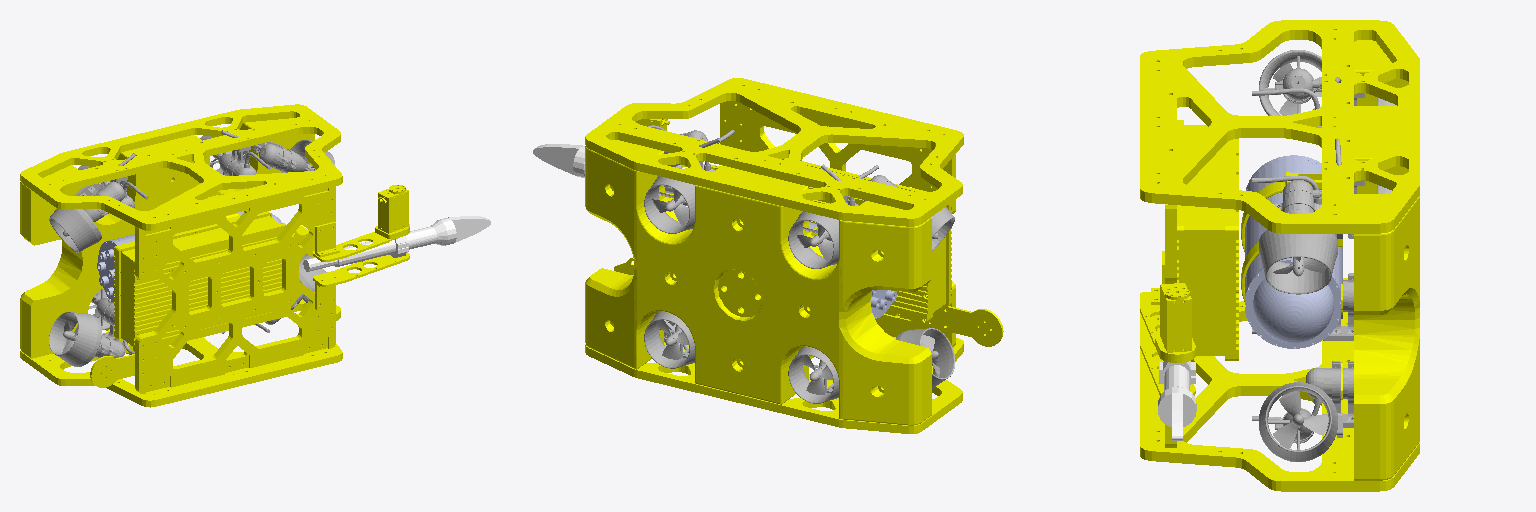
The robot description file, URDF, robot "underwater_robot":
<?xml version="1.0" encoding="utf-8"?>
<!-- This URDF was automatically created by SolidWorks to URDF Exporter! Originally created by Stephen Brawner (brawner@gmail.com) 
     Commit Version: 1.6.0-4-g7f85cfe  Build Version: 1.6.7995.38578
     For more information, please see http://wiki.ros.org/sw_urdf_exporter -->
<robot
  name="underwater_robot">
  <link
    name="base_link">
    <inertial>
      <origin
        xyz="-0.00388812346992118 0.214797507718185 0.000476870940854357"
        rpy="0 0 0" />
      <mass
        value="21.9611699884002" />
      <inertia
        ixx="0.23895137440233"
        ixy="-6.02120687701648E-05"
        ixz="6.67278401351575E-08"
        iyy="0.743447355689122"
        iyz="1.63793544263822E-06"
        izz="0.621848783014161" />
    </inertial>
    <visual>
      <origin
        xyz="0 0 0"
        rpy="0 0 0" />
      <geometry>
        <mesh
          filename="package://underwater_robot/meshes/base_link.STL" />
      </geometry>
      <material
        name="">
        <color
          rgba="0.988235294117647 1 0 1" />
      </material>
    </visual>
    <collision>
      <origin
        xyz="0 0 0"
        rpy="0 0 0" />
      <geometry>
        <mesh
          filename="package://underwater_robot/meshes/base_link.STL" />
      </geometry>
    </collision>
  </link>
  <link
    name="Link1">
    <inertial>
      <origin
        xyz="-0.284442084254638 0.0315351600726216 0.110185193232208"
        rpy="0 0 0" />
      <mass
        value="26.1757475044251" />
      <inertia
        ixx="0.694456523856631"
        ixy="0.0239708286389597"
        ixz="-0.00454179397071017"
        iyy="1.11839552637036"
        iyz="0.00257399094431449"
        izz="1.14010350472946" />
    </inertial>
    <visual>
      <origin
        xyz="0 0 0"
        rpy="0 0 0" />
      <geometry>
        <mesh
          filename="package://underwater_robot/meshes/Link1.STL" />
      </geometry>
      <material
        name="">
        <color
          rgba="0.752941176470588 0.752941176470588 0.752941176470588 1" />
      </material>
    </visual>
    <collision>
      <origin
        xyz="0 0 0"
        rpy="0 0 0" />
      <geometry>
        <mesh
          filename="package://underwater_robot/meshes/Link1.STL" />
      </geometry>
    </collision>
  </link>
  <joint
    name="J1"
    type="continuous">
    <origin
      xyz="0.288260052347553 0.179999999999991 -0.10968904997502"
      rpy="0 0 0" />
    <parent
      link="base_link" />
    <child
      link="Link1" />
    <axis
      xyz="0.866025403784441 0 0.499999999999996" />
  </joint>
  <link
    name="Link2">
    <inertial>
      <origin
        xyz="-0.284442084254639 0.0315351600726221 -0.109192906717831"
        rpy="0 0 0" />
      <mass
        value="26.1757475044251" />
      <inertia
        ixx="0.694456523856631"
        ixy="0.0239708286389598"
        ixz="-0.00454179397071014"
        iyy="1.11839552637036"
        iyz="0.00257399094431438"
        izz="1.14010350472946" />
    </inertial>
    <visual>
      <origin
        xyz="0 0 0"
        rpy="0 0 0" />
      <geometry>
        <mesh
          filename="package://underwater_robot/meshes/Link2.STL" />
      </geometry>
      <material
        name="">
        <color
          rgba="0.752941176470588 0.752941176470588 0.752941176470588 1" />
      </material>
    </visual>
    <collision>
      <origin
        xyz="0 0 0"
        rpy="0 0 0" />
      <geometry>
        <mesh
          filename="package://underwater_robot/meshes/Link2.STL" />
      </geometry>
    </collision>
  </link>
  <joint
    name="J2"
    type="continuous">
    <origin
      xyz="0.288260052347554 0.17999999999999 0.10968904997502"
      rpy="0 0 0" />
    <parent
      link="base_link" />
    <child
      link="Link2" />
    <axis
      xyz="0.86602540378444 0 -0.499999999999998" />
  </joint>
  <link
    name="Link3">
    <inertial>
      <origin
        xyz="-0.13617431748477 -0.124056489896612 0.125496143257188"
        rpy="0 0 0" />
      <mass
        value="26.1757475044251" />
      <inertia
        ixx="0.694456523856631"
        ixy="0.0239708286389597"
        ixz="-0.00454179397071017"
        iyy="1.11839552637036"
        iyz="0.0025739909443145"
        izz="1.14010350472946" />
    </inertial>
    <visual>
      <origin
        xyz="0 0 0"
        rpy="0 0 0" />
      <geometry>
        <mesh
          filename="package://underwater_robot/meshes/Link3.STL" />
      </geometry>
      <material
        name="">
        <color
          rgba="0.752941176470588 0.752941176470588 0.752941176470588 1" />
      </material>
    </visual>
    <collision>
      <origin
        xyz="0 0 0"
        rpy="0 0 0" />
      <geometry>
        <mesh
          filename="package://underwater_robot/meshes/Link3.STL" />
      </geometry>
    </collision>
  </link>
  <joint
    name="J3"
    type="fixed">
    <origin
      xyz="0.139992285577685 0.335591649969225 -0.125"
      rpy="0 0 0" />
    <parent
      link="base_link" />
    <child
      link="Link3" />
    <axis
      xyz="0 0 0" />
  </joint>
  <link
    name="Link4">
    <inertial>
      <origin
        xyz="-0.13617431748477 -0.124056489896612 -0.124503856742812"
        rpy="0 0 0" />
      <mass
        value="26.1757475044251" />
      <inertia
        ixx="0.694456523856631"
        ixy="0.0239708286389597"
        ixz="-0.00454179397071016"
        iyy="1.11839552637036"
        iyz="0.00257399094431448"
        izz="1.14010350472946" />
    </inertial>
    <visual>
      <origin
        xyz="0 0 0"
        rpy="0 0 0" />
      <geometry>
        <mesh
          filename="package://underwater_robot/meshes/Link4.STL" />
      </geometry>
      <material
        name="">
        <color
          rgba="0.752941176470588 0.752941176470588 0.752941176470588 1" />
      </material>
    </visual>
    <collision>
      <origin
        xyz="0 0 0"
        rpy="0 0 0" />
      <geometry>
        <mesh
          filename="package://underwater_robot/meshes/Link4.STL" />
      </geometry>
    </collision>
  </link>
  <joint
    name="J4"
    type="fixed">
    <origin
      xyz="0.139992285577685 0.335591649969225 0.125"
      rpy="0 0 0" />
    <parent
      link="base_link" />
    <child
      link="Link4" />
    <axis
      xyz="0 0 0" />
  </joint>
  <link
    name="Link5">
    <inertial>
      <origin
        xyz="0.143825682515232 -0.124056489896607 0.125496143257189"
        rpy="0 0 0" />
      <mass
        value="26.1757475044251" />
      <inertia
        ixx="0.694456523856631"
        ixy="0.0239708286389596"
        ixz="-0.00454179397071016"
        iyy="1.11839552637036"
        iyz="0.00257399094431449"
        izz="1.14010350472946" />
    </inertial>
    <visual>
      <origin
        xyz="0 0 0"
        rpy="0 0 0" />
      <geometry>
        <mesh
          filename="package://underwater_robot/meshes/Link5.STL" />
      </geometry>
      <material
        name="">
        <color
          rgba="0.752941176470588 0.752941176470588 0.752941176470588 1" />
      </material>
    </visual>
    <collision>
      <origin
        xyz="0 0 0"
        rpy="0 0 0" />
      <geometry>
        <mesh
          filename="package://underwater_robot/meshes/Link5.STL" />
      </geometry>
    </collision>
  </link>
  <joint
    name="J5"
    type="continuous">
    <origin
      xyz="-0.140007714422317 0.335591649969219 -0.125"
      rpy="0 0 0" />
    <parent
      link="base_link" />
    <child
      link="Link5" />
    <axis
      xyz="0 1 0" />
  </joint>
  <link
    name="Link6">
    <inertial>
      <origin
        xyz="0.143825682515232 -0.124056489896607 -0.124503856742812"
        rpy="0 0 0" />
      <mass
        value="26.1757475044251" />
      <inertia
        ixx="0.694456523856631"
        ixy="0.0239708286389597"
        ixz="-0.00454179397071016"
        iyy="1.11839552637036"
        iyz="0.00257399094431447"
        izz="1.14010350472946" />
    </inertial>
    <visual>
      <origin
        xyz="0 0 0"
        rpy="0 0 0" />
      <geometry>
        <mesh
          filename="package://underwater_robot/meshes/Link6.STL" />
      </geometry>
      <material
        name="">
        <color
          rgba="0.752941176470588 0.752941176470588 0.752941176470588 1" />
      </material>
    </visual>
    <collision>
      <origin
        xyz="0 0 0"
        rpy="0 0 0" />
      <geometry>
        <mesh
          filename="package://underwater_robot/meshes/Link6.STL" />
      </geometry>
    </collision>
  </link>
  <joint
    name="J6"
    type="continuous">
    <origin
      xyz="-0.140007714422317 0.335591649969219 0.125"
      rpy="0 0 0" />
    <parent
      link="base_link" />
    <child
      link="Link6" />
    <axis
      xyz="0 1 0" />
  </joint>
  <link
    name="Link7">
    <inertial>
      <origin
        xyz="0.292093449285101 0.0315351600726186 -0.109192906717829"
        rpy="0 0 0" />
      <mass
        value="26.1757475044251" />
      <inertia
        ixx="0.69445652385663"
        ixy="0.0239708286389596"
        ixz="-0.00454179397071014"
        iyy="1.11839552637036"
        iyz="0.00257399094431444"
        izz="1.14010350472946" />
    </inertial>
    <visual>
      <origin
        xyz="0 0 0"
        rpy="0 0 0" />
      <geometry>
        <mesh
          filename="package://underwater_robot/meshes/Link7.STL" />
      </geometry>
      <material
        name="">
        <color
          rgba="0.752941176470588 0.752941176470588 0.752941176470588 1" />
      </material>
    </visual>
    <collision>
      <origin
        xyz="0 0 0"
        rpy="0 0 0" />
      <geometry>
        <mesh
          filename="package://underwater_robot/meshes/Link7.STL" />
      </geometry>
    </collision>
  </link>
  <joint
    name="J7"
    type="continuous">
    <origin
      xyz="-0.288275481192185 0.179999999999994 0.109689049975018"
      rpy="0 0 0" />
    <parent
      link="base_link" />
    <child
      link="Link7" />
    <axis
      xyz="-0.86602540378444 0 -0.499999999999998" />
  </joint>
  <link
    name="Link8">
    <inertial>
      <origin
        xyz="0.2920934492851 0.0315351600726188 0.110185193232206"
        rpy="0 0 0" />
      <mass
        value="26.1757475044251" />
      <inertia
        ixx="0.694456523856631"
        ixy="0.0239708286389598"
        ixz="-0.00454179397071014"
        iyy="1.11839552637036"
        iyz="0.00257399094431444"
        izz="1.14010350472946" />
    </inertial>
    <visual>
      <origin
        xyz="0 0 0"
        rpy="0 0 0" />
      <geometry>
        <mesh
          filename="package://underwater_robot/meshes/Link8.STL" />
      </geometry>
      <material
        name="">
        <color
          rgba="0.752941176470588 0.752941176470588 0.752941176470588 1" />
      </material>
    </visual>
    <collision>
      <origin
        xyz="0 0 0"
        rpy="0 0 0" />
      <geometry>
        <mesh
          filename="package://underwater_robot/meshes/Link8.STL" />
      </geometry>
    </collision>
  </link>
  <joint
    name="J8"
    type="continuous">
    <origin
      xyz="-0.28828 0.18 -0.10969"
      rpy="0 0 0" />
    <parent
      link="base_link" />
    <child
      link="Link8" />
    <axis
      xyz="-0.86603 0 0.5" />
  </joint>
  <link
    name="Link9">
    <inertial>
      <origin
        xyz="-0.197367290138972 3.1641356201817E-15 -1.13797860024079E-15"
        rpy="0 0 0" />
      <mass
        value="1.03393910252923" />
      <inertia
        ixx="0.00354213590504132"
        ixy="5.34392119916816E-18"
        ixz="-4.25653721872329E-19"
        iyy="0.00621309491541952"
        iyz="-1.30102257820008E-18"
        izz="0.00621309491541951" />
    </inertial>
    <visual>
      <origin
        xyz="0 0 0"
        rpy="0 0 0" />
      <geometry>
        <mesh
          filename="package://underwater_robot/meshes/Link9.STL" />
      </geometry>
      <material
        name="">
        <color
          rgba="0.792156862745098 0.819607843137255 0.933333333333333 1" />
      </material>
    </visual>
    <collision>
      <origin
        xyz="0 0 0"
        rpy="0 0 0" />
      <geometry>
        <mesh
          filename="package://underwater_robot/meshes/Link9.STL" />
      </geometry>
    </collision>
  </link>
  <joint
    name="camera"
    type="fixed">
    <origin
      xyz="0.17999 0.1735 0"
      rpy="0 0 0" />
    <parent
      link="base_link" />
    <child
      link="Link9" />
    <axis
      xyz="0 0 0" />
  </joint>
  <link
    name="Link10">
    <inertial>
      <origin
        xyz="0.0068200882299887 -2.70591645078477E-05 0.0299493911134847"
        rpy="0 0 0" />
      <mass
        value="0.387766393452322" />
      <inertia
        ixx="7.20995315346367E-05"
        ixy="4.79320615146667E-06"
        ixz="1.66510519905277E-09"
        iyy="0.00406238242640918"
        iyz="9.71393809401032E-11"
        izz="0.00406025716694692" />
    </inertial>
    <visual>
      <origin
        xyz="0 0 0"
        rpy="0 0 0" />
      <geometry>
        <mesh
          filename="package://underwater_robot/meshes/Link10.STL" />
      </geometry>
      <material
        name="">
        <color
          rgba="1 1 1 1" />
      </material>
    </visual>
    <collision>
      <origin
        xyz="0 0 0"
        rpy="0 0 0" />
      <geometry>
        <mesh
          filename="package://underwater_robot/meshes/Link10.STL" />
      </geometry>
    </collision>
  </link>
  <joint
    name="arm1"
    type="revolute">
    <origin
      xyz="0.374251802975354 0.0161421530640257 -0.03"
      rpy="0 0 0" />
    <parent
      link="base_link" />
    <child
      link="Link10" />
    <axis
      xyz="0 0 1" />
    <limit
      lower="0"
      upper="0"
      effort="0"
      velocity="0" />
  </joint>
</robot>

--- What the picture shows (computed from the rendered views, not written in the file) ---
Views: 3 orthographic renders of the robot side by side, from view 1: azimuth 30°, elevation 25°; view 2: azimuth 150°, elevation 25°; view 3: azimuth 270°, elevation 25°.
Model underwater_robot with 11 links and 10 joints (1 revolute, 6 continuous, 3 fixed), rooted at base_link, posed all joints at 0.
Links seen in each view (by area): view 1: base_link, Link10, Link8, Link7, Link2, Link4, Link9, Link5, Link1; view 2: base_link, Link6, Link4, Link3, Link5, Link8, Link10, Link7, Link9; view 3: base_link, Link9, Link2, Link1, Link7, Link10, Link3, Link5, Link4, Link6.
Boxes of the visible links, x1,y1,x2,y2 form: base_link: (20, 104, 409, 407); Link10: (303, 216, 490, 271); Link8: (49, 312, 131, 366); Link7: (49, 153, 136, 252); Link2: (221, 130, 334, 172); Link4: (200, 136, 270, 175); Link9: (97, 211, 282, 302); Link5: (89, 288, 134, 353); Link1: (222, 254, 326, 333); base_link: (585, 78, 1003, 433); Link6: (788, 165, 878, 268); Link4: (644, 130, 734, 233); Link3: (644, 311, 694, 368); Link5: (788, 346, 838, 403); Link8: (896, 328, 954, 388); Link10: (533, 144, 673, 194); Link7: (821, 164, 954, 250); Link9: (809, 222, 896, 318); base_link: (1140, 20, 1419, 491); Link9: (1245, 155, 1342, 348); Link2: (1259, 138, 1342, 294); Link1: (1259, 382, 1342, 461); Link7: (1259, 50, 1341, 115); Link10: (1158, 361, 1196, 440); Link3: (1252, 361, 1353, 427); Link5: (1252, 273, 1353, 340); Link4: (1252, 176, 1391, 238); Link6: (1252, 88, 1396, 127).
Bounding box of the posed robot: 0.9097 × 0.38 × 0.4457 m (x, y, z).
Meshes: 11 distinct files referenced, 11 mesh visuals loaded (11 binary STL).
